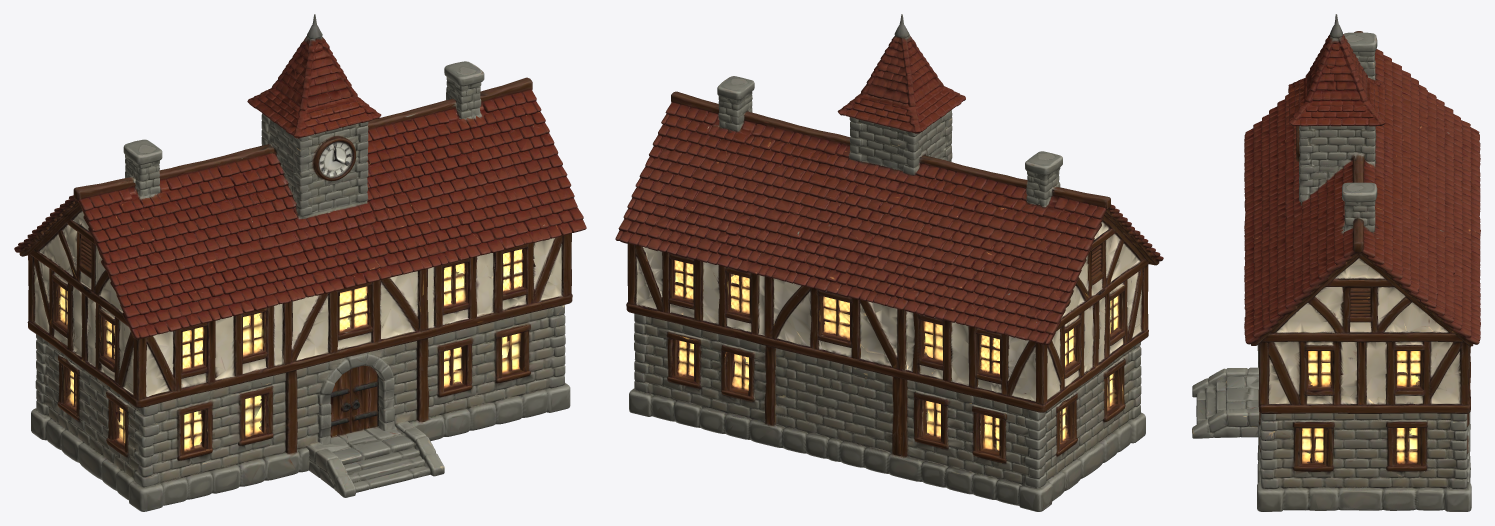
The model's file is OakHillTownHall_300k.glb.
3 renders of one model, left to right at view 1: azimuth 30°, elevation 25°; view 2: azimuth 150°, elevation 25°; view 3: azimuth 270°, elevation 25°, orthographic. The views are drawn at different scales.
Parts seen in each view (by area): view 1: Mesh_0; view 2: Mesh_0; view 3: Mesh_0.
Part boxes in pixels (x1,y1,x2,y2): Mesh_0: (14, 14, 586, 511); Mesh_0: (615, 14, 1163, 511); Mesh_0: (1192, 14, 1480, 511).
Size of the model in its own units: 1.9 by 1.67 by 1.09.
1 material, 1 textured.
